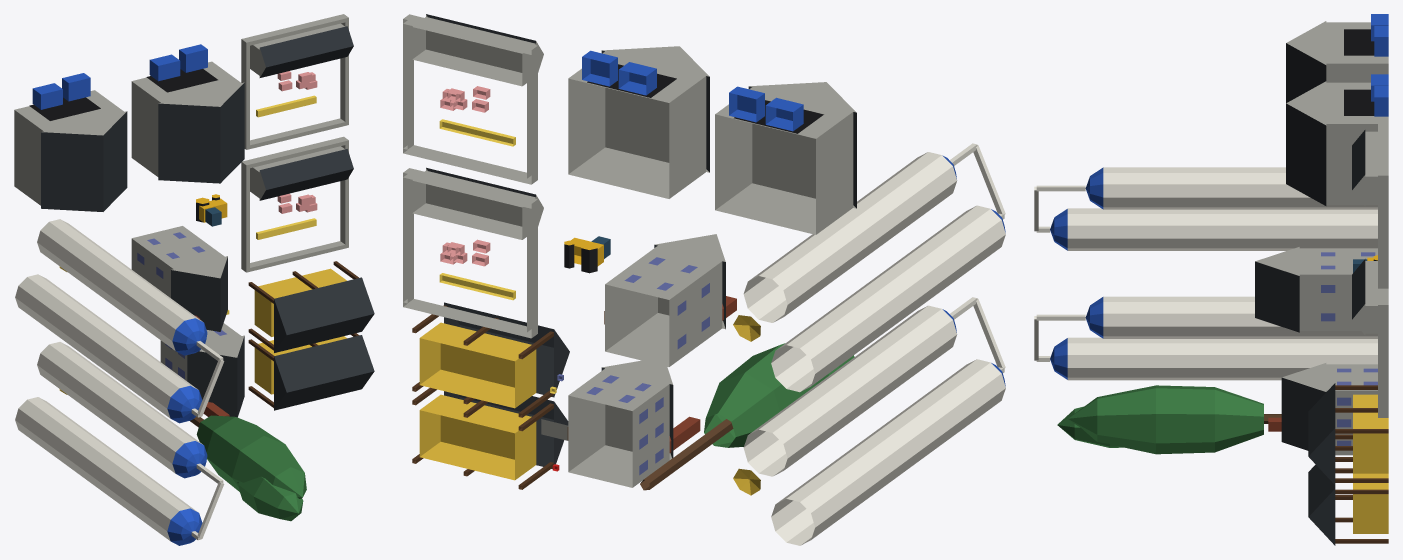
The model's file is complete.glb.
3 views of the same model, side by side, from view 1: azimuth 30°, elevation 25°; view 2: azimuth 150°, elevation 25°; view 3: azimuth 270°, elevation 25° (orthographic). The views are drawn at different scales.
Parts seen in each view (by area): view 1: t01_g37.003, t00_g37.003, t20_g35.003, t12_g36.003, t02_g36.003, t10_g33.003, t21_g38.003, t22_g38.003, t11_g34.003; view 2: t00_g37.003, t01_g37.003, t20_g35.003, t10_g33.003, t12_g36.003, t02_g36.003, t11_g34.003, t21_g38.003, t22_g38.003; view 3: t01_g37.003, t00_g37.003, t10_g33.003, t20_g35.003, t12_g36.003, t11_g34.003, t02_g36.003, t22_g38.003, t21_g38.003.
Part boxes in pixels (<box>): t01_g37.003: <box>15,219,224,423</box>; t00_g37.003: <box>15,342,224,545</box>; t20_g35.003: <box>248,261,374,410</box>; t12_g36.003: <box>131,44,244,183</box>; t02_g36.003: <box>14,73,127,211</box>; t10_g33.003: <box>160,310,306,521</box>; t21_g38.003: <box>241,136,353,272</box>; t22_g38.003: <box>241,14,353,149</box>; t11_g34.003: <box>131,194,227,331</box>; t00_g37.003: <box>733,297,1005,545</box>; t01_g37.003: <box>733,143,1005,392</box>; t20_g35.003: <box>412,302,569,489</box>; t10_g33.003: <box>541,343,854,490</box>; t12_g36.003: <box>568,46,709,198</box>; t02_g36.003: <box>715,82,856,234</box>; t11_g34.003: <box>564,234,736,366</box>; t21_g38.003: <box>403,167,543,338</box>; t22_g38.003: <box>403,14,543,184</box>; t01_g37.003: <box>1034,167,1377,250</box>; t00_g37.003: <box>1034,296,1377,380</box>; t10_g33.003: <box>1057,363,1377,455</box>; t20_g35.003: <box>1308,383,1388,545</box>; t12_g36.003: <box>1286,74,1388,205</box>; t11_g34.003: <box>1255,247,1377,332</box>; t02_g36.003: <box>1286,14,1388,102</box>; t22_g38.003: <box>1352,123,1388,288</box>; t21_g38.003: <box>1352,259,1388,417</box>.
Bounding box in the file's own units: 45.4 × 47.13 × 39.75.
